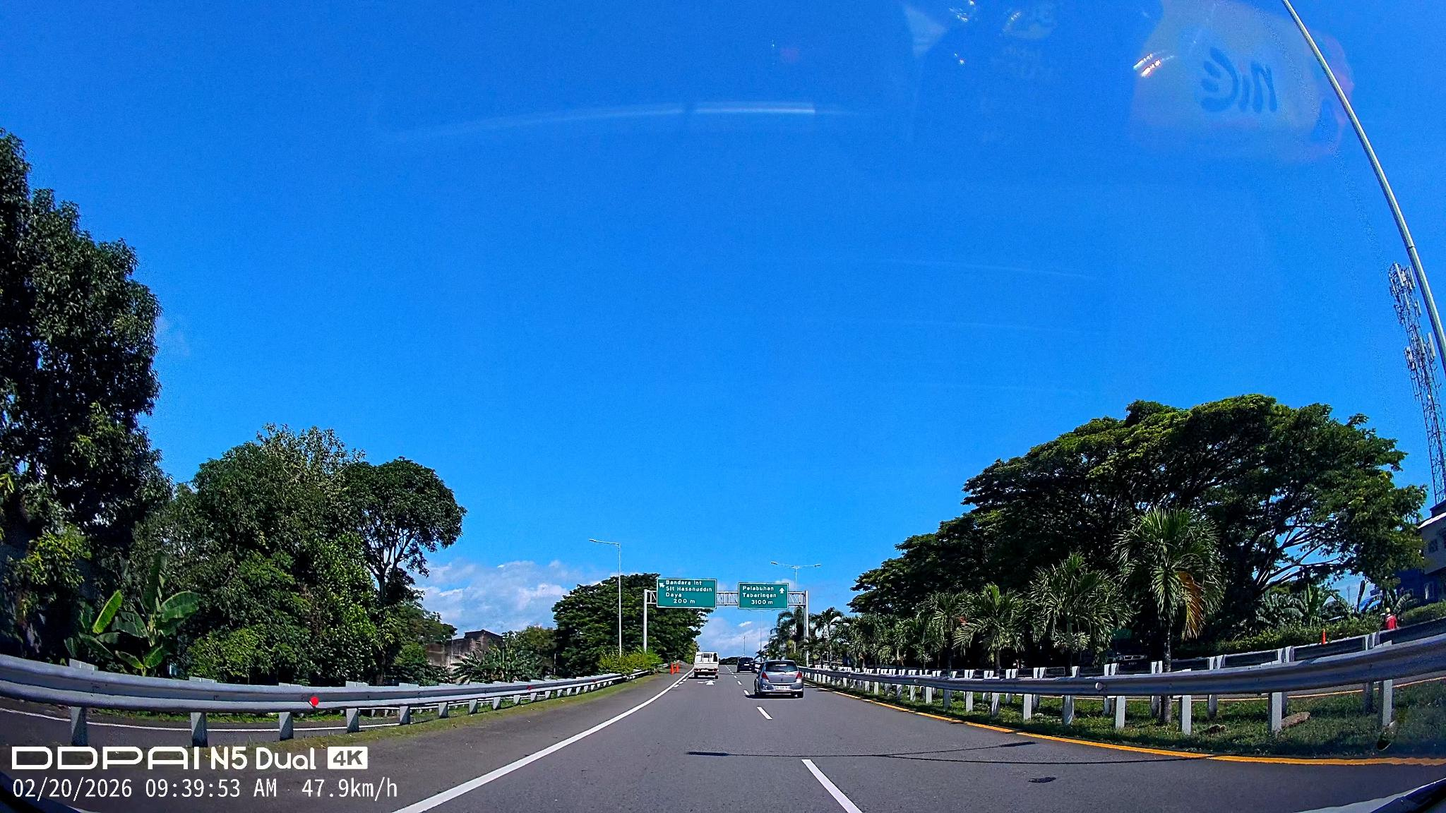rambu_teks: (657, 578, 717, 608), (738, 582, 789, 609)
